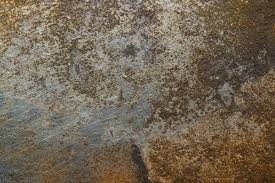rust: (157, 8, 274, 118), (115, 107, 274, 180), (1, 3, 212, 52)
